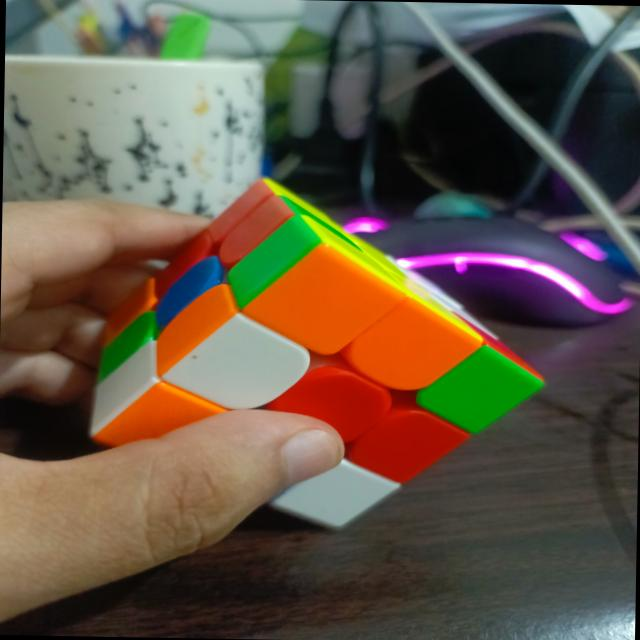rubik: (84, 172, 549, 534)
